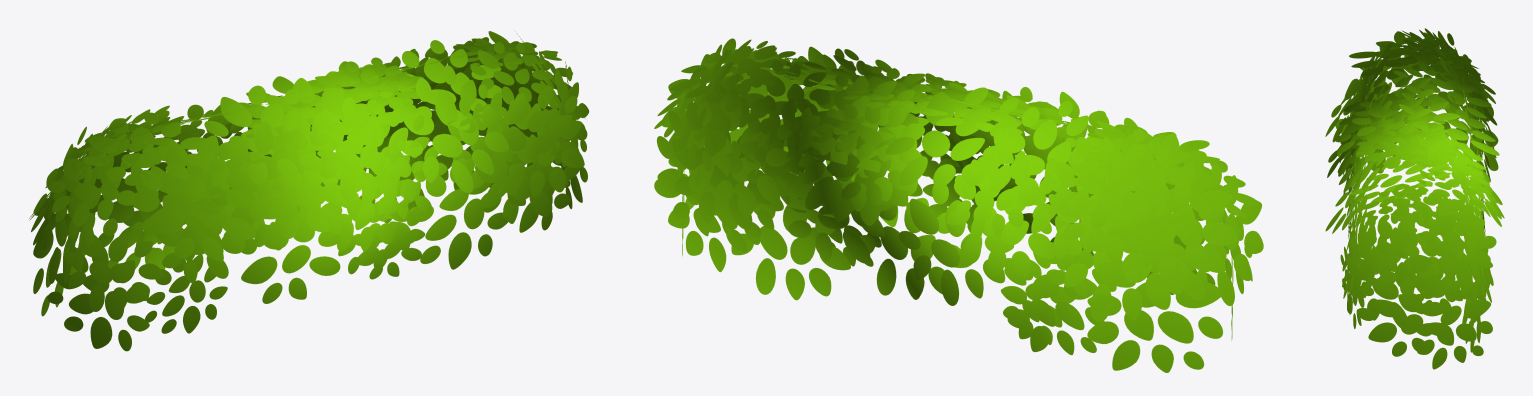
File: quaternius-nature-bush-small.glb
3 views of the same model, side by side, from view 1: azimuth 30°, elevation 25°; view 2: azimuth 150°, elevation 25°; view 3: azimuth 270°, elevation 25° (orthographic). The views are drawn at different scales.
Visible parts, largest first — view 1: Bush_Small; view 2: Bush_Small; view 3: Bush_Small.
Boxes of the visible parts, box(x1,y1,x2,y2) form: Bush_Small: box(29, 31, 589, 351); Bush_Small: box(654, 38, 1263, 372); Bush_Small: box(1325, 28, 1504, 369).
Size of the model in its own units: 1.9 by 0.7784 by 0.7238.
Materials: 1 (1 with a texture image).
